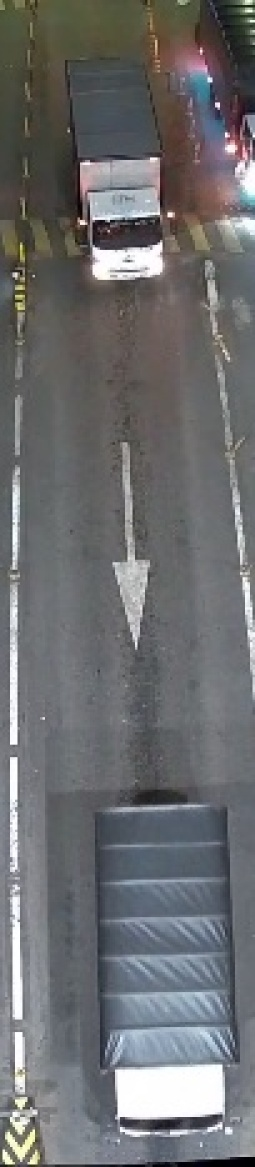truck: (79, 778, 248, 1149), (49, 41, 186, 295), (195, 4, 254, 164)
